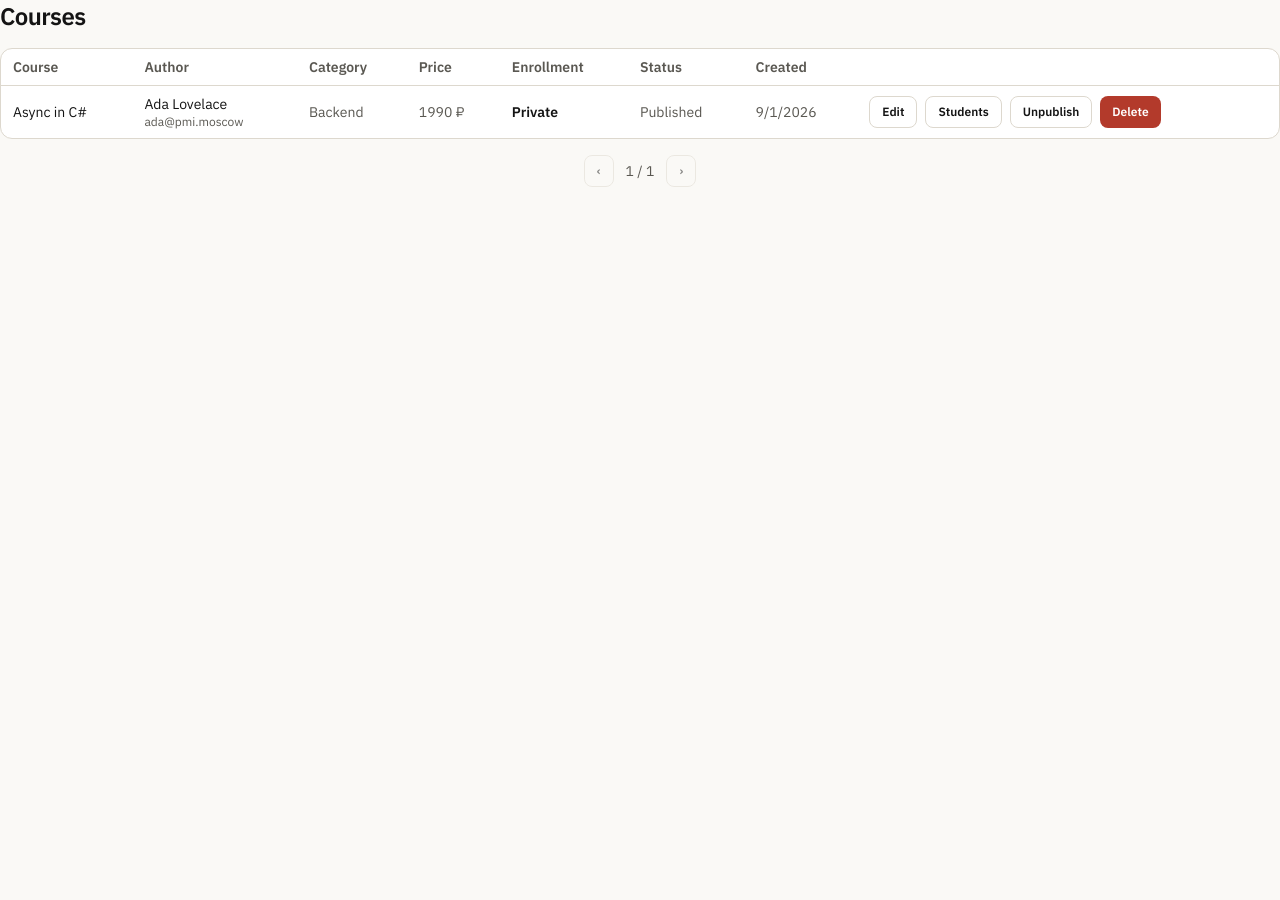
Test case: AdminCoursesView › surfaces the server reason when a delete is refused
Expected: the text "Async in C#" is shown, top-left (1, 86), bottom-right (132, 138)
Click the button "Delete" at (1130, 112), box top-left (1100, 96), bottom-right (1161, 128)
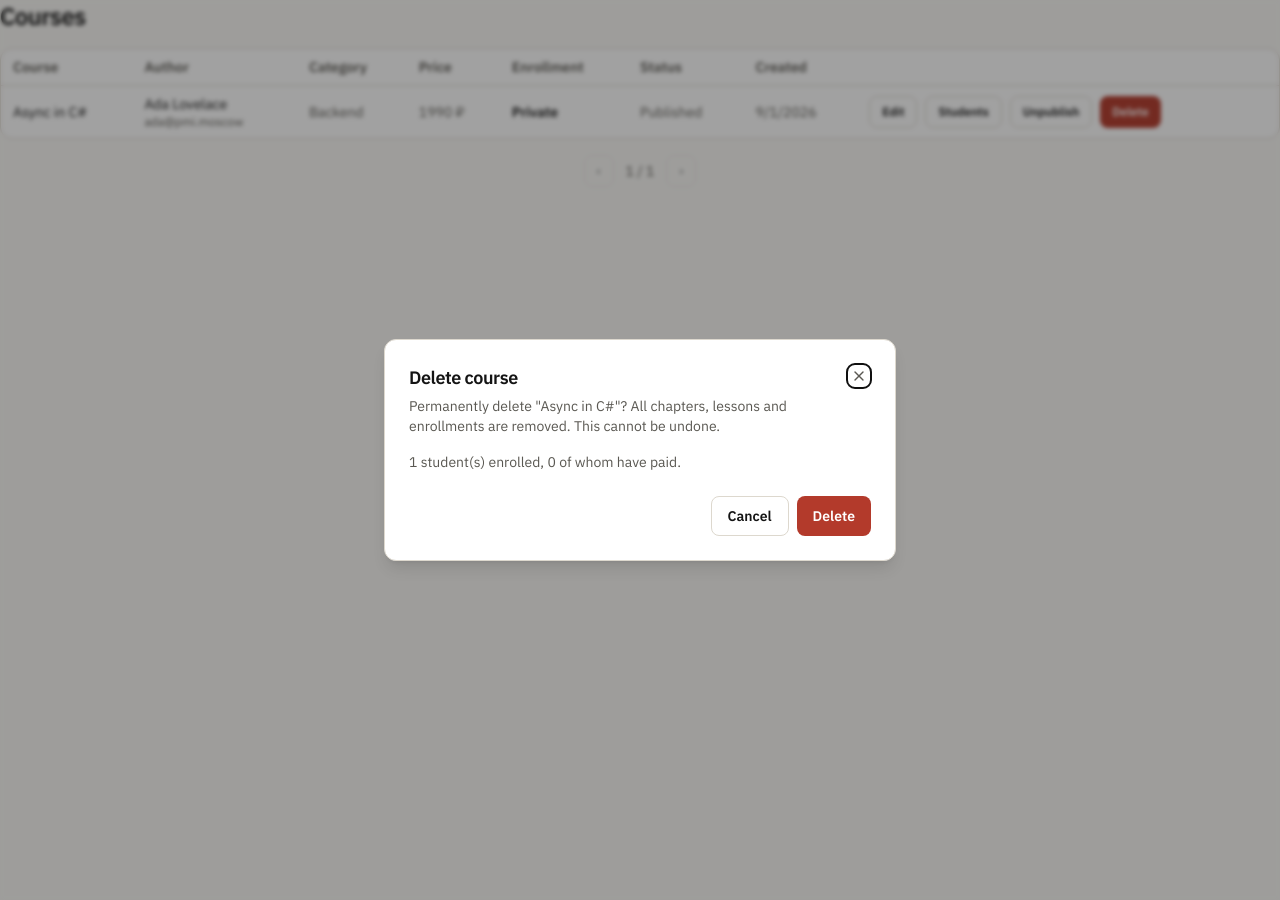
Result: the heading "Delete course" is shown at top-left (409, 366), bottom-right (518, 389)
Click the button "Delete" at (834, 516), box top-left (797, 496), bottom-right (871, 536)
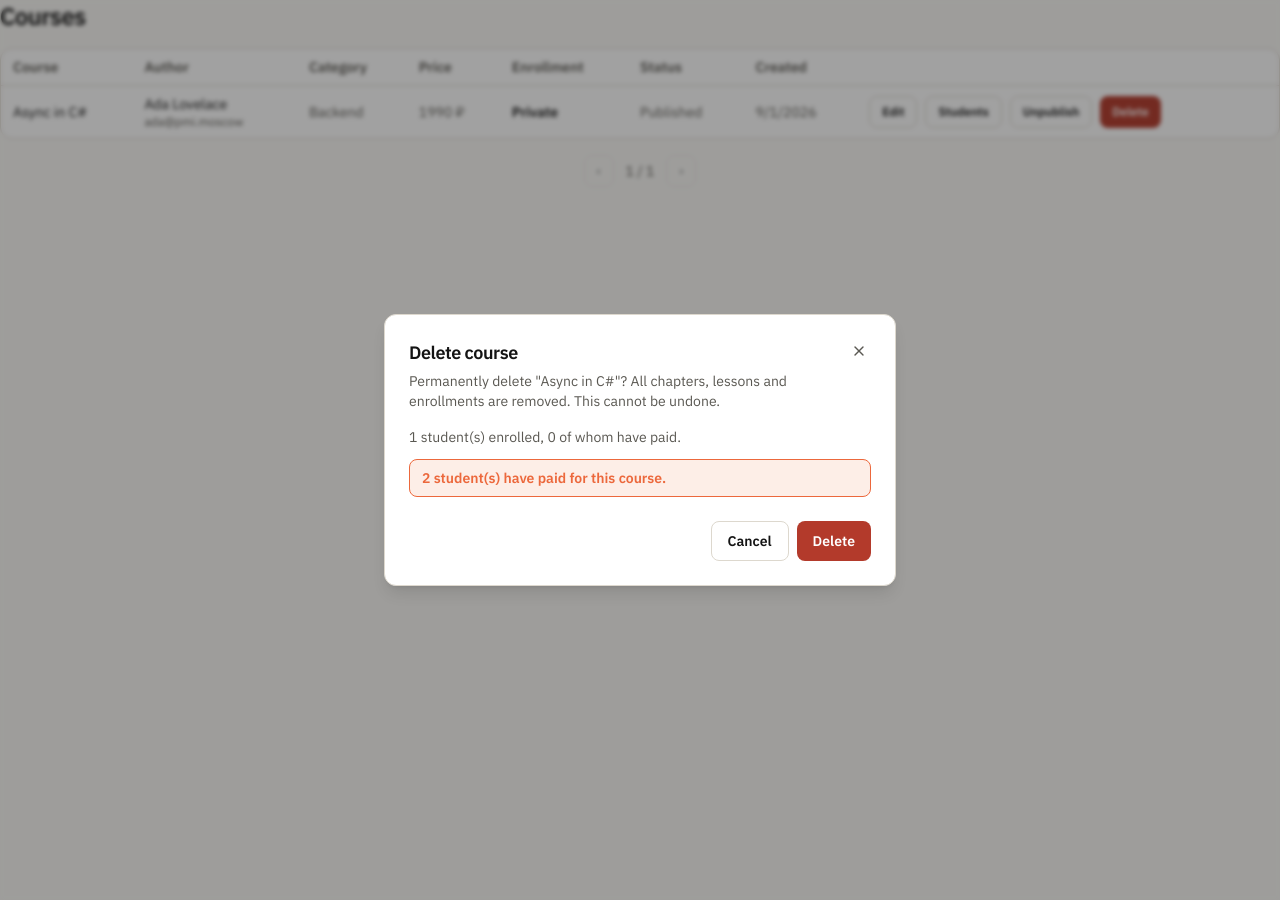
Result: the text "2 student(s) have paid for this course." is shown at top-left (409, 459), bottom-right (871, 497)
